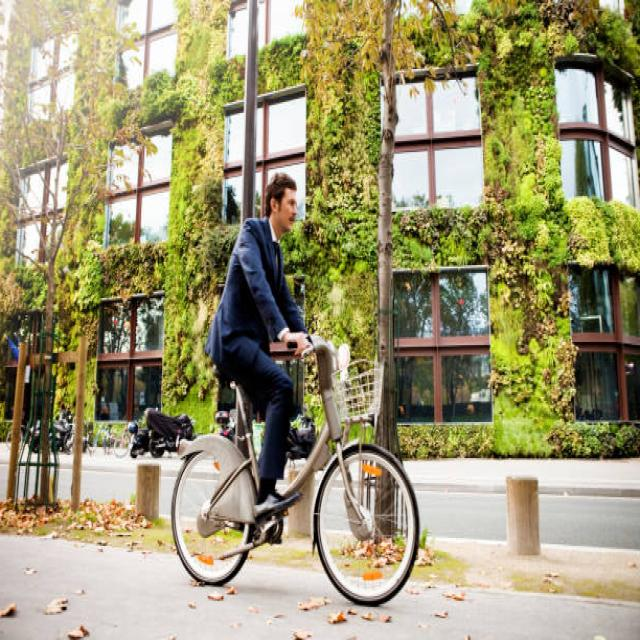bicycle: (171, 172, 419, 605)
